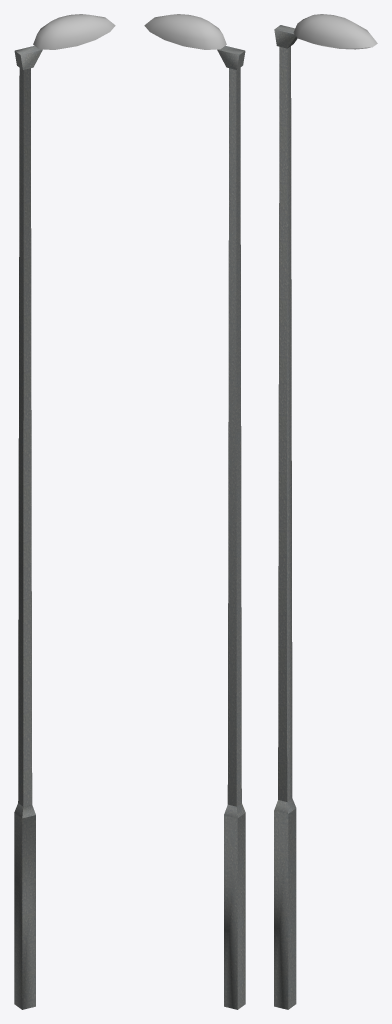
Rendered from Light_Sample_LOD1.gltf.
The picture shows the model from 3 angles, left to right: view 1: azimuth 30°, elevation 25°; view 2: azimuth 150°, elevation 25°; view 3: azimuth 330°, elevation 25°; orthographic projection. The views are drawn at different scales.
Visible parts, largest first — view 1: Light_Sample_LOD1; view 2: Light_Sample_LOD1; view 3: Light_Sample_LOD1.
Part boxes in pixels (bbox=[...]): Light_Sample_LOD1: bbox=[14, 14, 115, 1009]; Light_Sample_LOD1: bbox=[144, 14, 245, 1009]; Light_Sample_LOD1: bbox=[274, 14, 377, 1009].
Bounding box in the file's own units: 1.27 × 12.4 × 0.5101.
